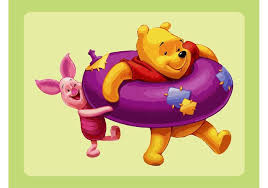Winnie: (123, 19, 201, 92)
